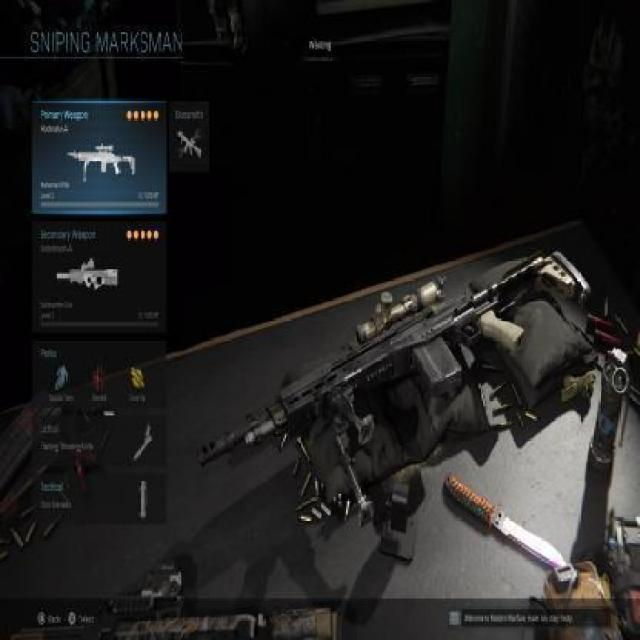Grenade: (588, 348, 632, 480), (135, 478, 150, 522)
Knife: (443, 473, 569, 572)
Rifle: (197, 248, 594, 532), (8, 560, 344, 640), (64, 143, 138, 183), (55, 255, 120, 292), (168, 124, 205, 160)
